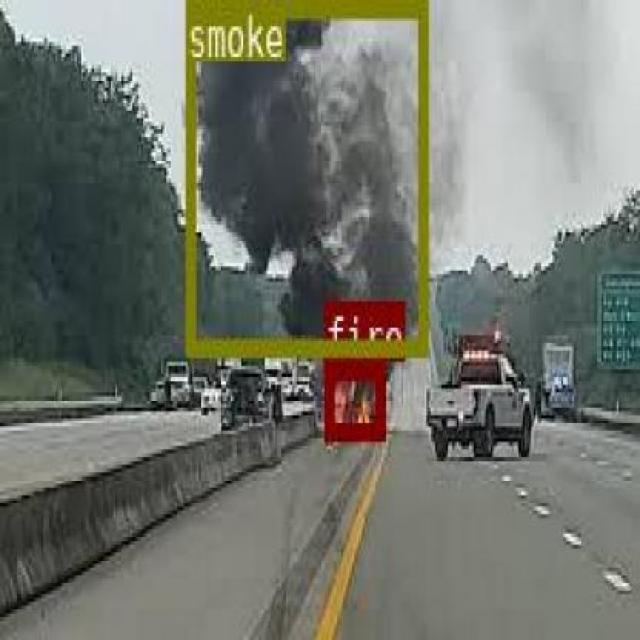Fire: (324, 358, 382, 436)
Smoke: (185, 0, 426, 351)
